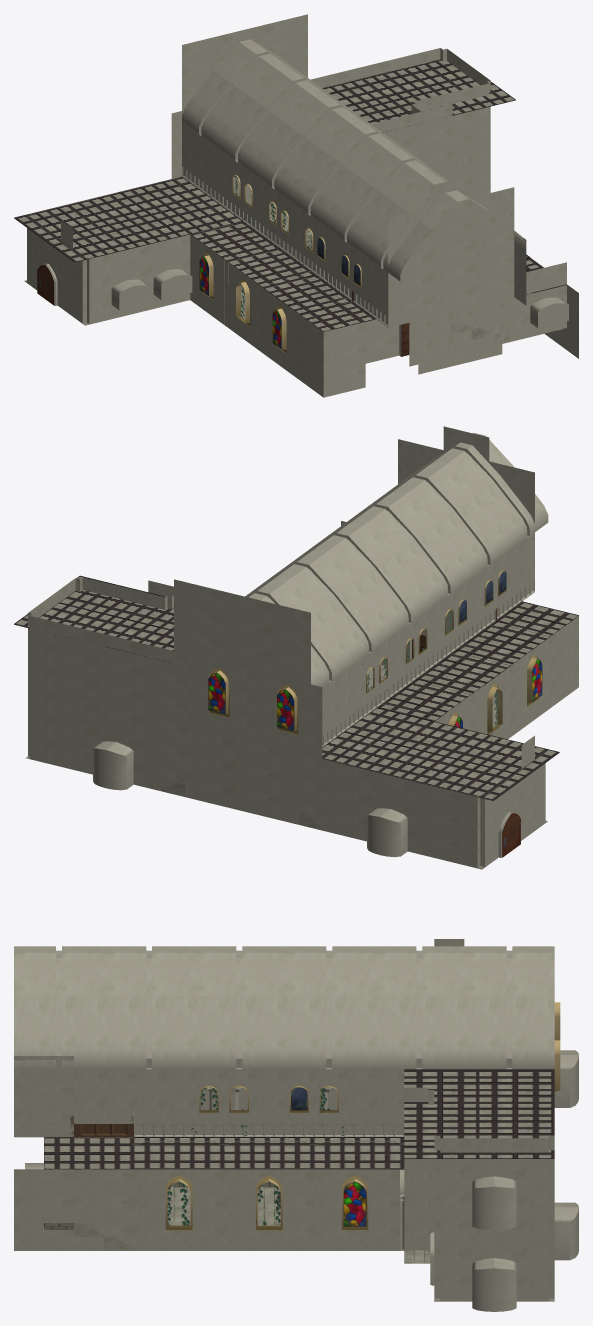
3 views of the same model, one above another, from view 1: azimuth 30°, elevation 25°; view 2: azimuth 150°, elevation 25°; view 3: azimuth 270°, elevation 25° (orthographic). The views are drawn at different scales.
Visible parts, largest first — view 1: SM_CeilingSlant20; view 2: SM_CeilingSlant20; view 3: SM_CeilingSlant20.
Boxes of the visible parts, x1,y1,x2,y2 form: SM_CeilingSlant20: (14, 14, 578, 397); SM_CeilingSlant20: (14, 426, 578, 869); SM_CeilingSlant20: (14, 939, 578, 1311).
Size of the model in its own units: 0.2131 by 0.0906 by 0.1881.
5 materials, 5 textured.
